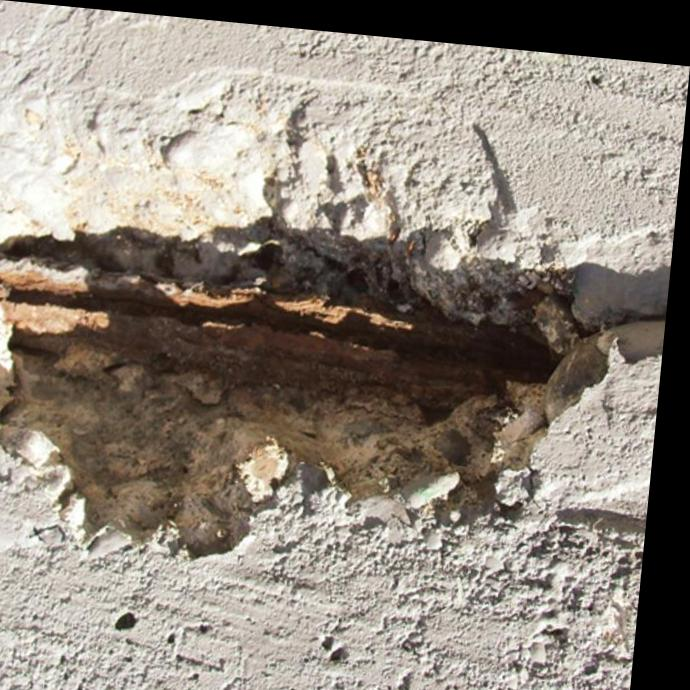damage: (0, 74, 677, 551)
